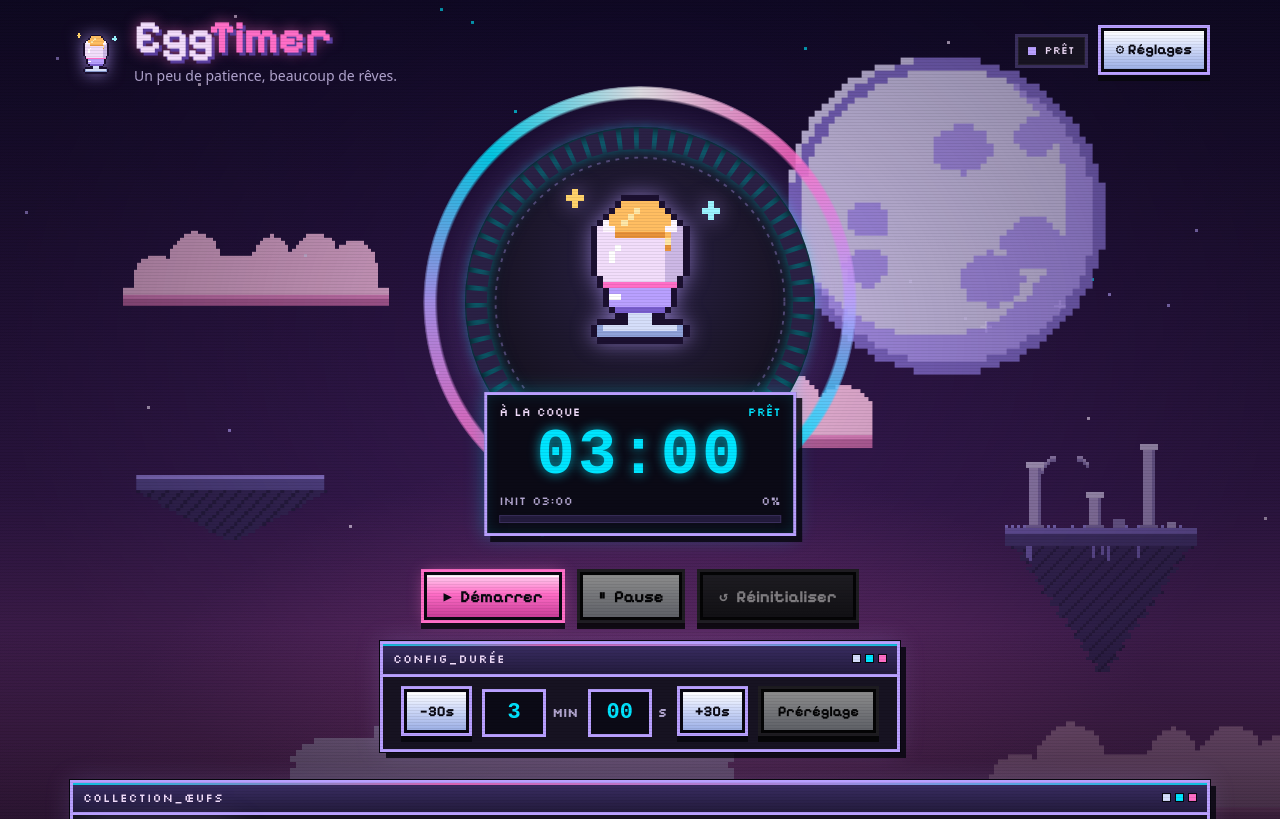
Test: sélection et minuteur › démarrer, pause, reprendre, réinitialiser
Click the button "▶ Démarrer".
click(493, 596)  # box [424, 572, 562, 620]
Wait 10000 ms
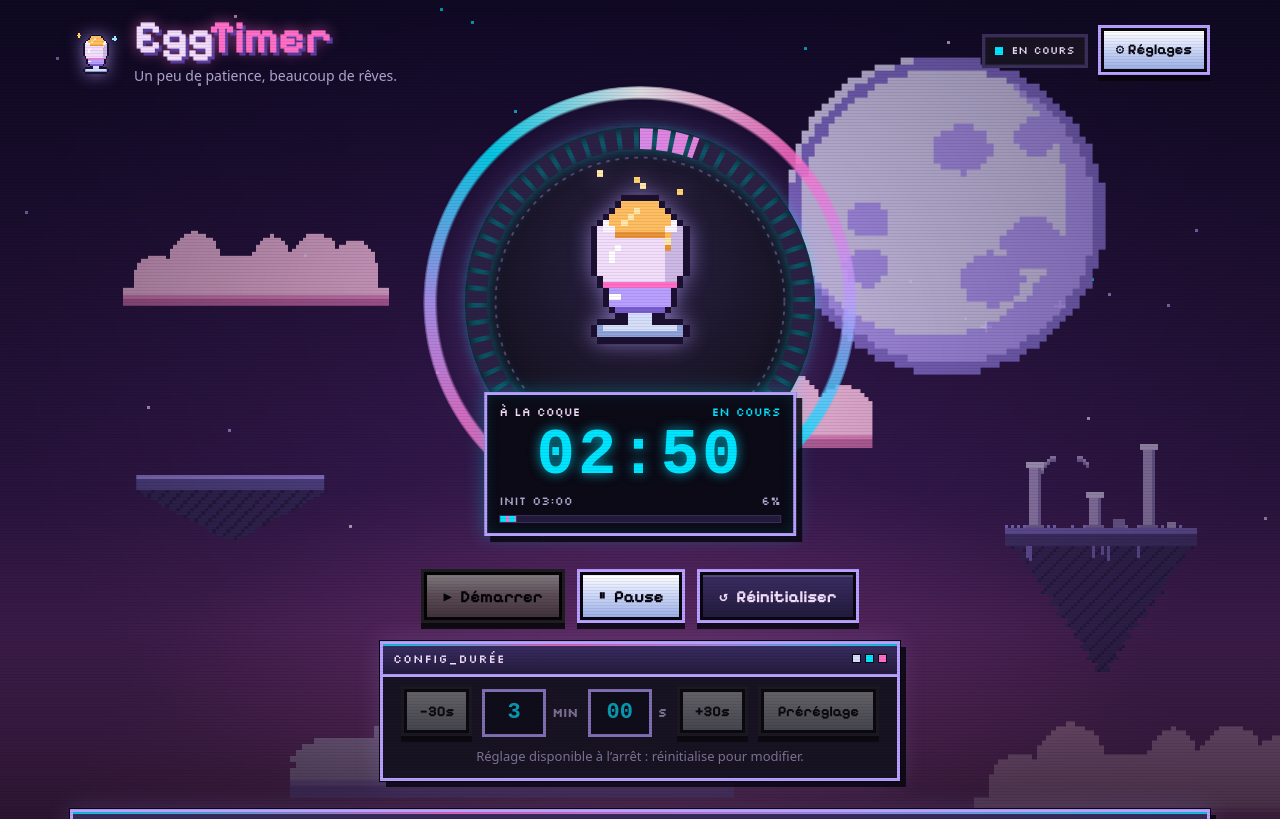
Click the button "⏸ Pause".
click(631, 596)  # box [580, 572, 682, 620]
Wait 5000 ms
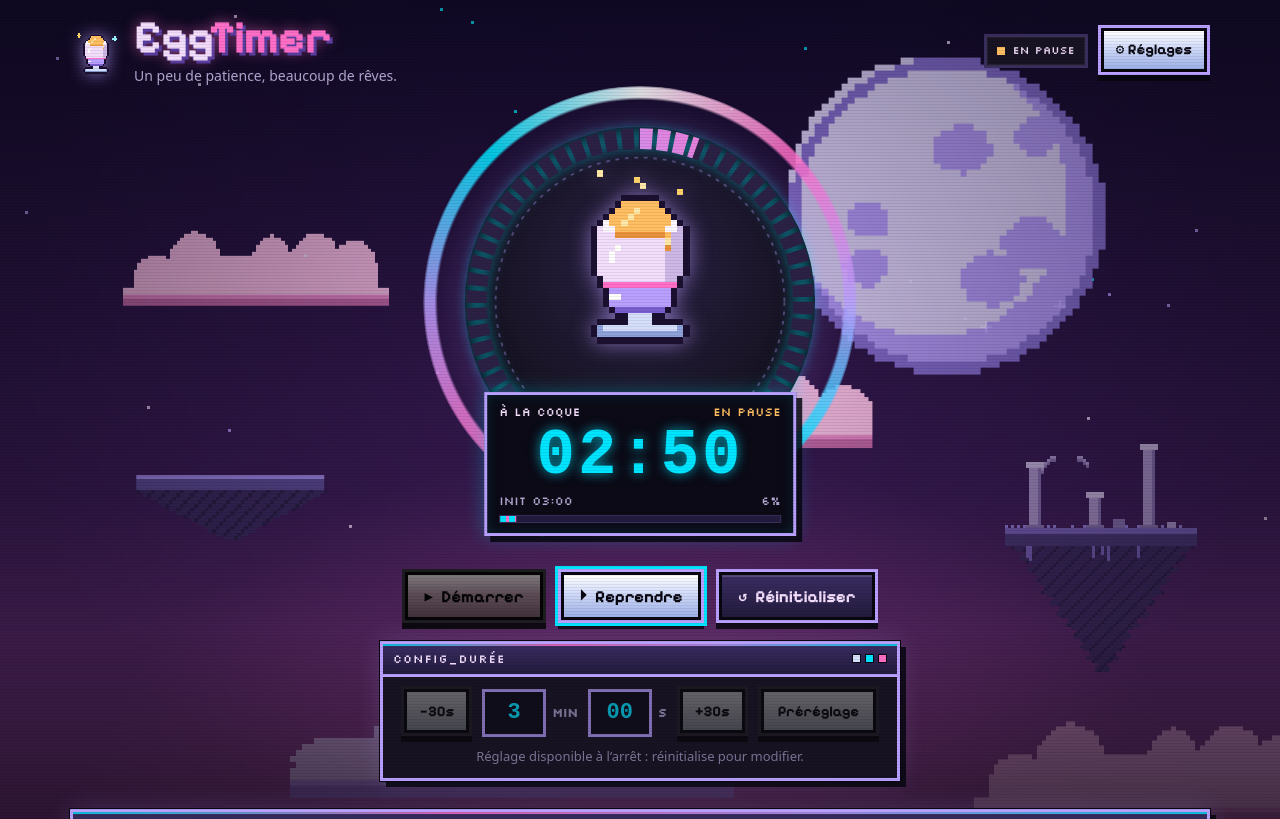
Click the button "⏵ Reprendre".
click(631, 596)  # box [561, 572, 701, 620]
Wait 5000 ms
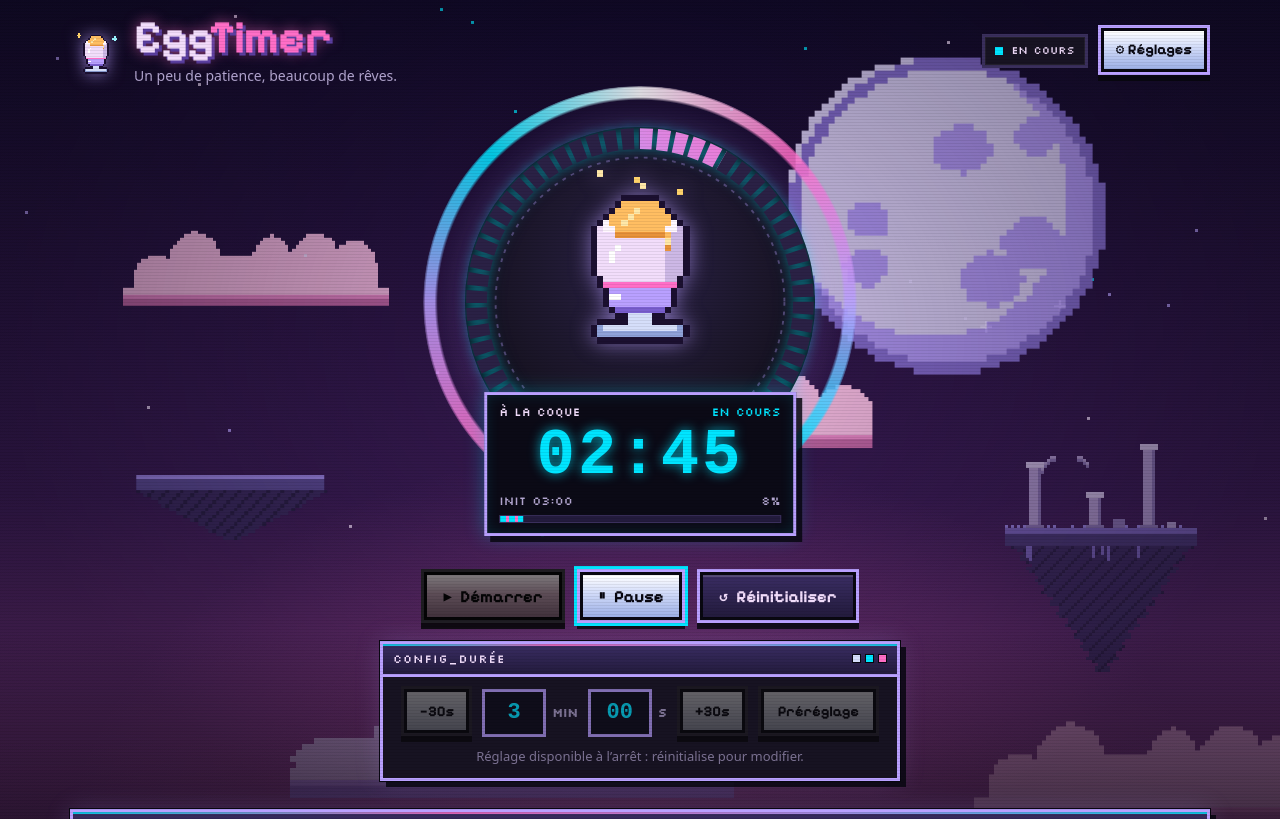
Click the button "↺ Réinitialiser".
click(778, 596)  # box [700, 572, 856, 620]
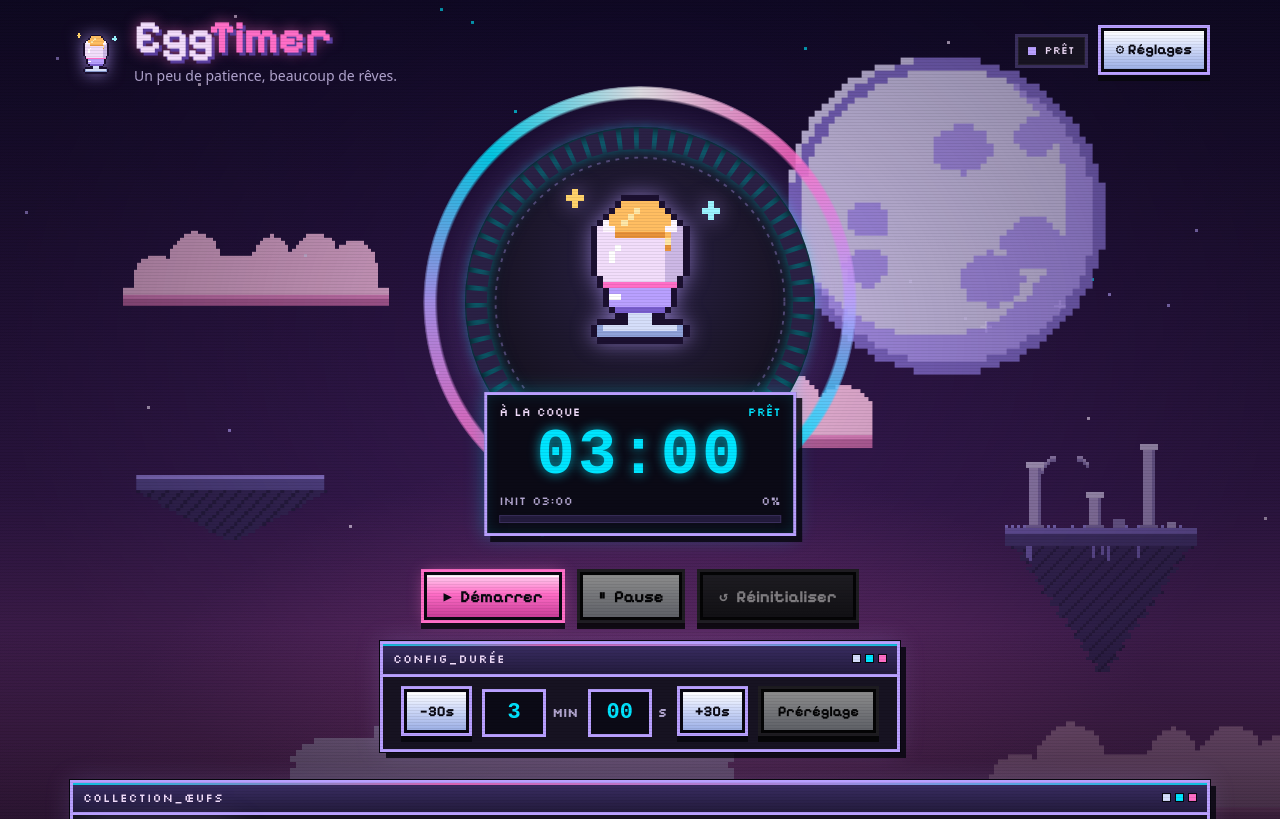
Expected: the element showing "PRÊT" is shown, [1015, 34, 1088, 68]
